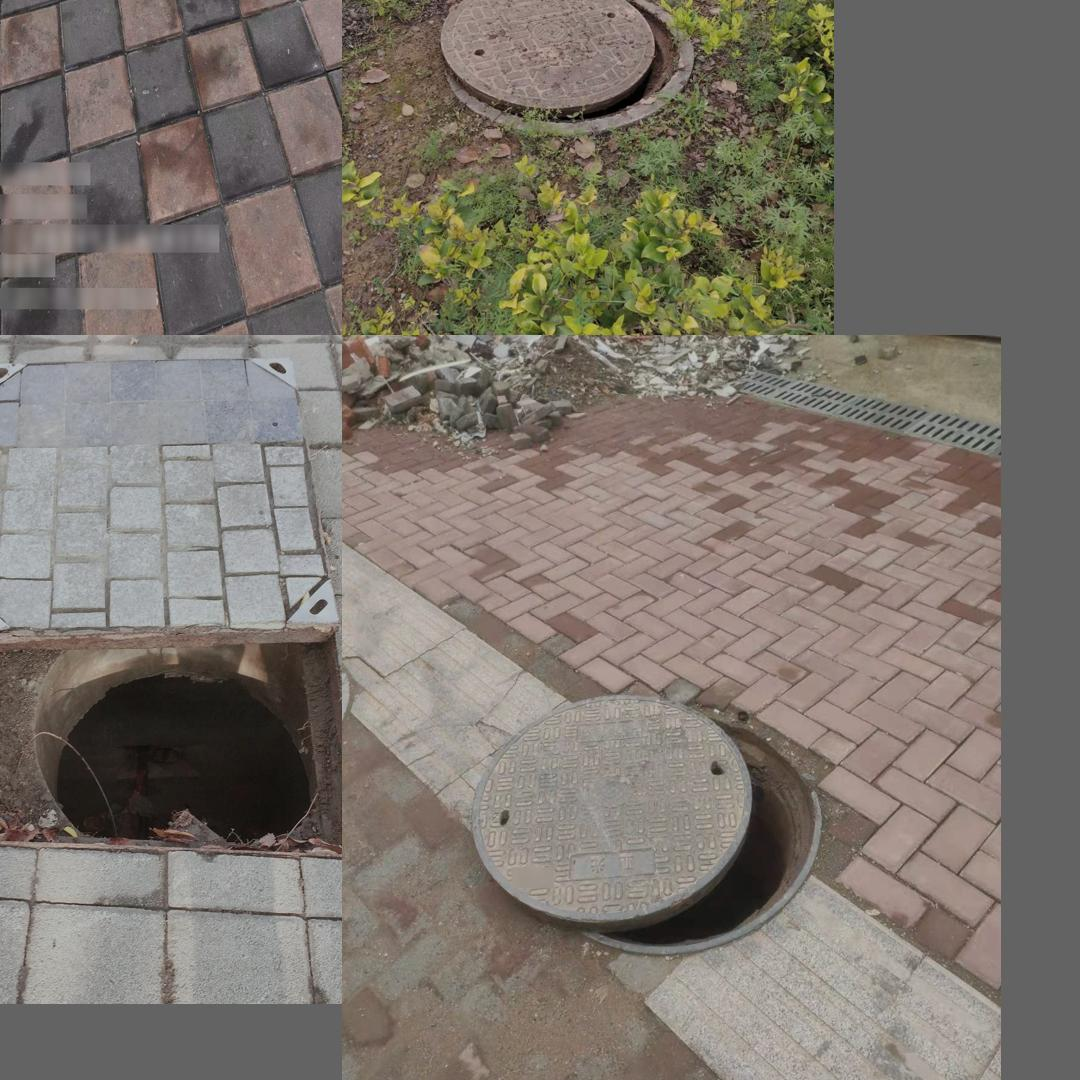uncovered: (0, 348, 329, 875), (471, 693, 825, 957), (440, 0, 695, 134)
